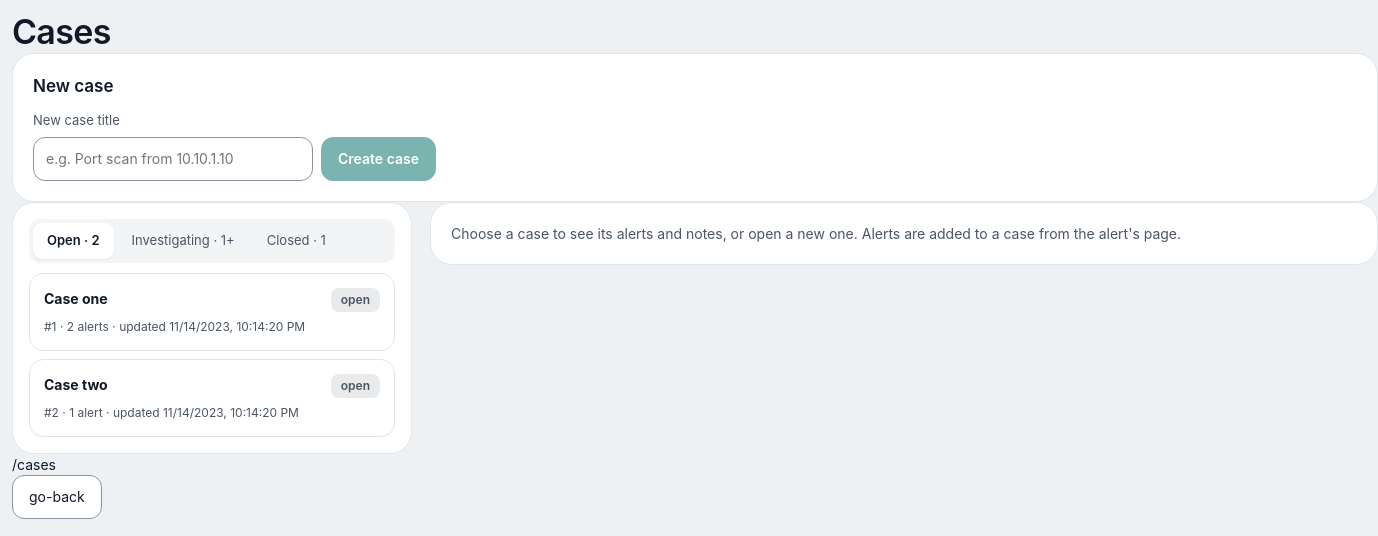
Test: case list › a list's next_cursor gives n+ for that list only, and the note for the current tab only
Expected: the button "Open · 2" is shown, [33,223,114,259]
Expected: the button "Closed · 1" is shown, [253,223,340,259]
What coordinates should you click on to do the following:
click the button "Investigating · 1+"
I would click on:
 (183, 241)
Its box is [118,223,249,259].
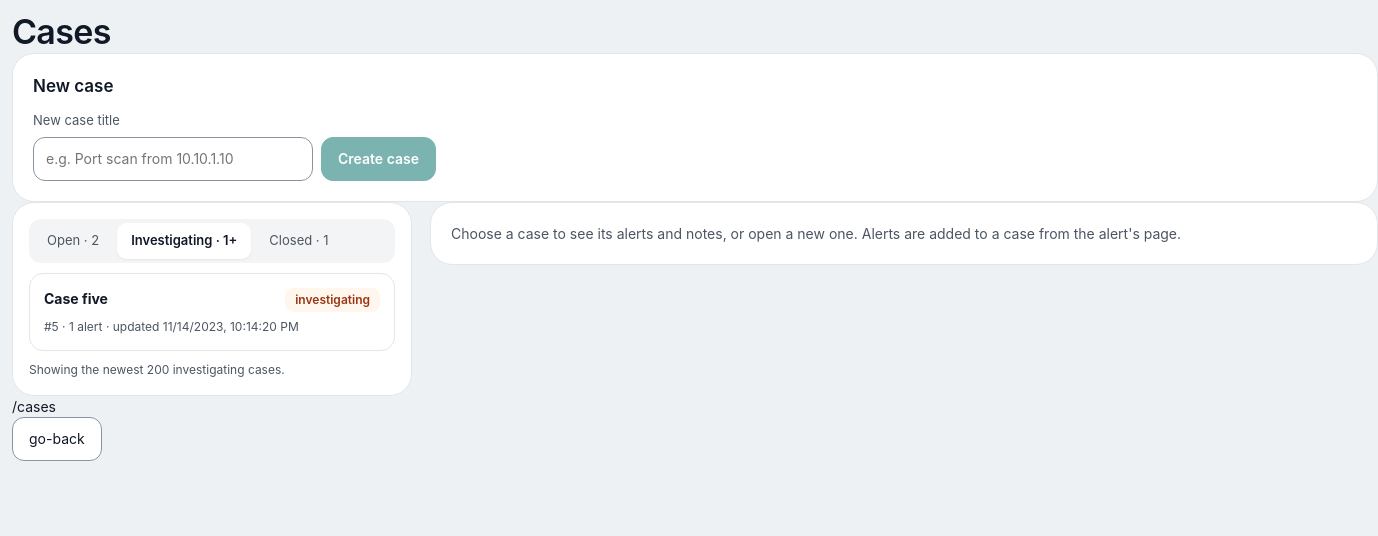
Expected: the text "Showing the newest 200 investigating cases." is shown, [29,362,285,377]
What coordinates should you click on to do the following:
click the button "Closed · 1"
I would click on:
 (299, 241)
Its box is [255,223,342,259].
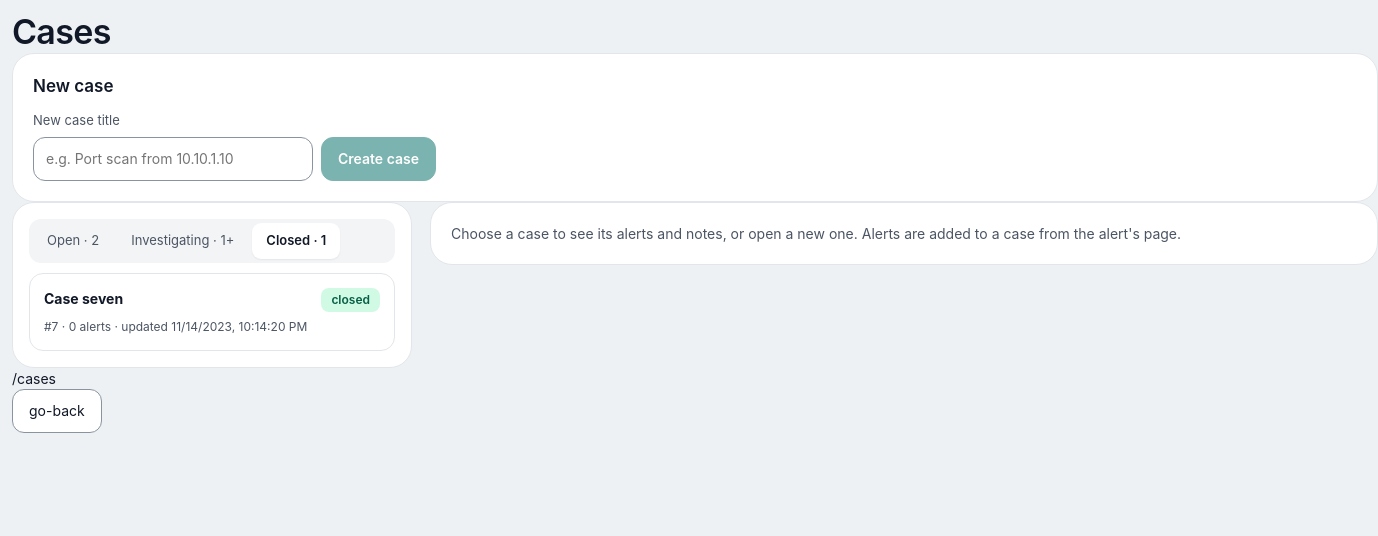
Expected: the text "Showing the newest" is gone
